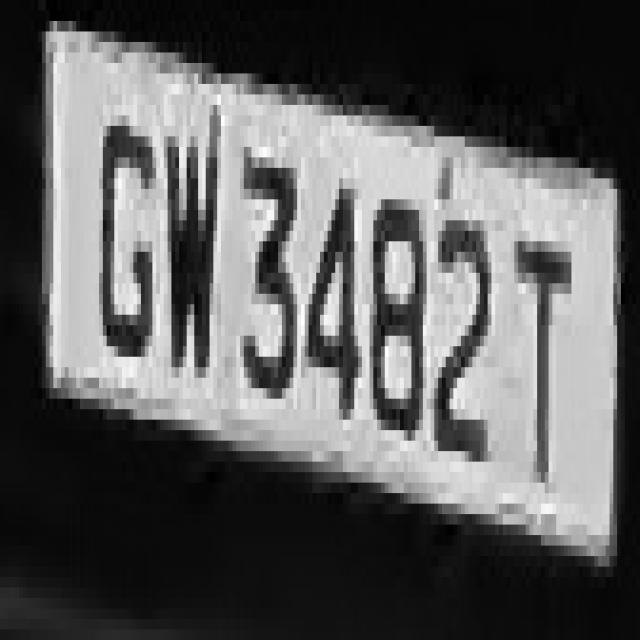2: (427, 189, 495, 514)
3: (229, 95, 301, 451)
4: (301, 116, 377, 451)
8: (366, 157, 426, 462)
G: (91, 73, 160, 378)
T: (503, 189, 579, 514)
W: (148, 84, 228, 409)
